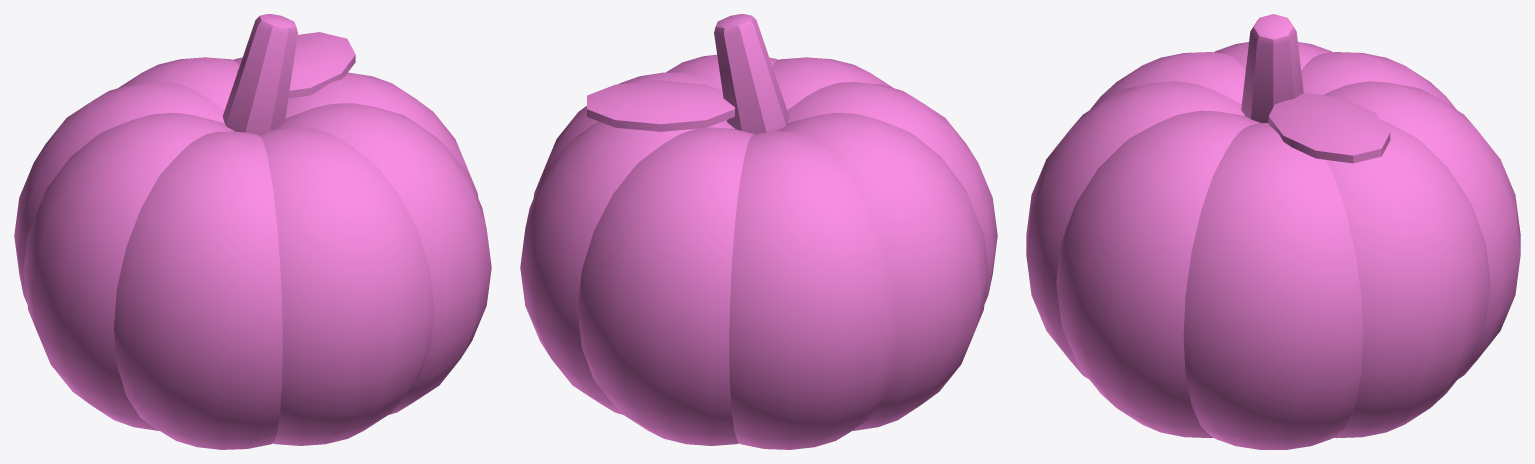
File: Parcel_Pumpkin.fbx
3 renders of one model, left to right at view 1: azimuth 30°, elevation 25°; view 2: azimuth 150°, elevation 25°; view 3: azimuth 270°, elevation 25°, orthographic. The views are drawn at different scales.
Parts seen in each view (by area): view 1: Parcel; view 2: Parcel; view 3: Parcel.
Part boxes in pixels (<box>): Parcel: <box>14,14,491,449</box>; Parcel: <box>520,14,997,449</box>; Parcel: <box>1026,14,1520,449</box>.
Size of the model in its own units: 1.76 by 1.53 by 1.76.
Materials: 1 (1 with a texture image).
